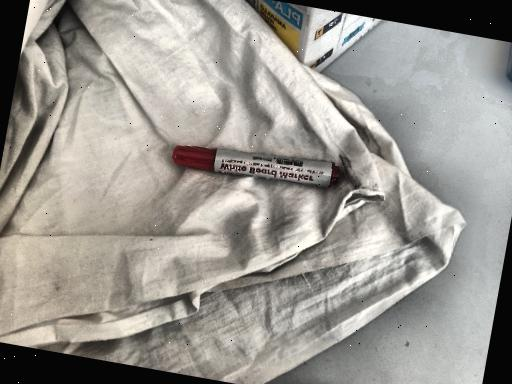marcador rojo: (172, 145, 340, 187)
